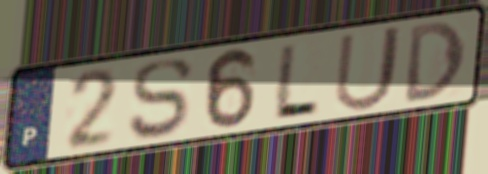2: (65, 66, 120, 153)
6: (203, 45, 259, 133)
D: (403, 18, 468, 106)
L: (268, 40, 323, 120)
S: (126, 55, 196, 144)
U: (331, 22, 406, 114)
